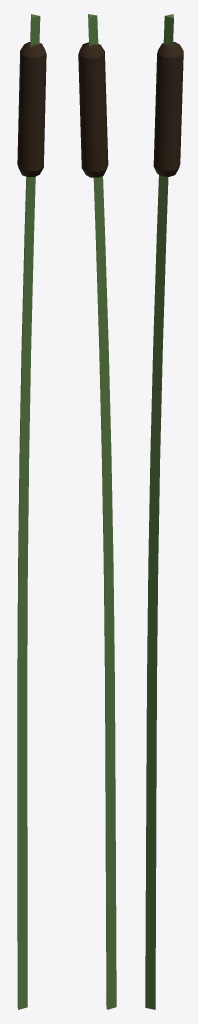
Rendered from plant_cattail_solo_A_twig.fbx.
3 renders of one model, left to right at view 1: azimuth 30°, elevation 25°; view 2: azimuth 150°, elevation 25°; view 3: azimuth 330°, elevation 25°, orthographic.
Visible parts, largest first — view 1: plant_cattail_solo_A_twig, plant_cattail_solo_A_leaf; view 2: plant_cattail_solo_A_twig, plant_cattail_solo_A_leaf; view 3: plant_cattail_solo_A_twig, plant_cattail_solo_A_leaf.
Part boxes in pixels (<box>): plant_cattail_solo_A_twig: <box>17,14,40,1009</box>; plant_cattail_solo_A_leaf: <box>17,42,46,177</box>; plant_cattail_solo_A_twig: <box>88,14,116,1009</box>; plant_cattail_solo_A_leaf: <box>78,42,108,177</box>; plant_cattail_solo_A_twig: <box>145,14,173,1009</box>; plant_cattail_solo_A_leaf: <box>153,42,183,176</box>.
Bounding box in the file's own units: 8 × 236 × 6.08.
